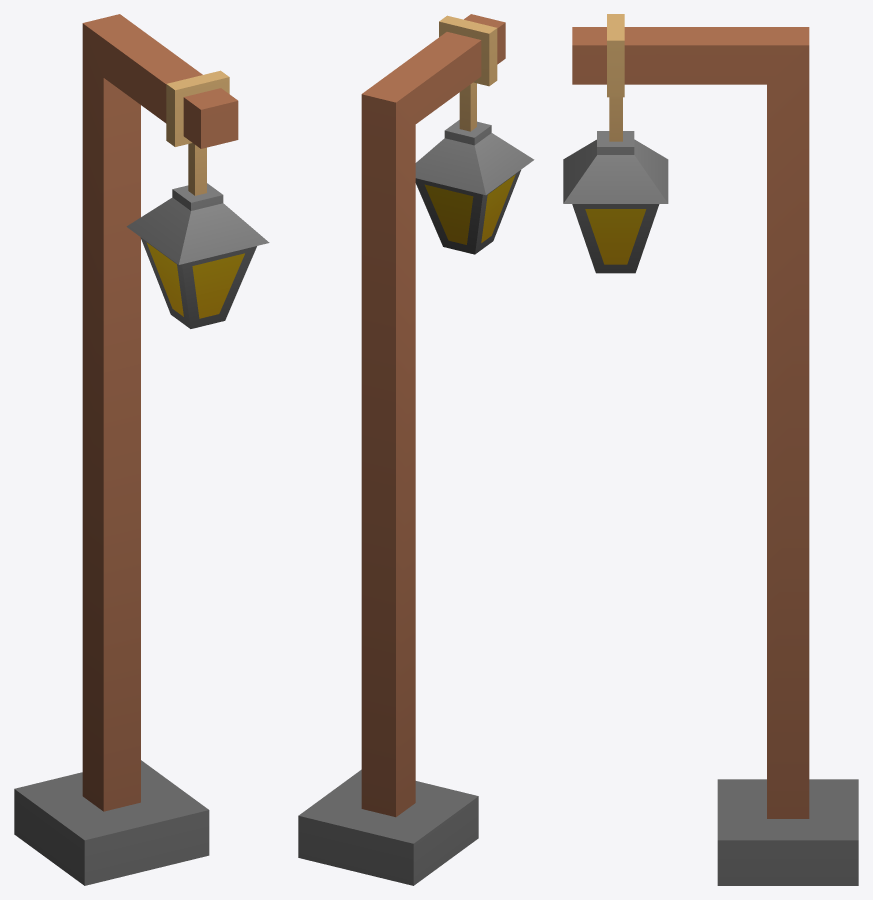
Rendered from lamppost.glb.
The picture shows the model from 3 angles, left to right: view 1: azimuth 30°, elevation 25°; view 2: azimuth 150°, elevation 25°; view 3: azimuth 270°, elevation 25°; orthographic projection. The views are drawn at different scales.
Parts seen in each view (by area): view 1: lamppost; view 2: lamppost; view 3: lamppost.
Boxes of the visible parts, left/top/right/bottom form: lamppost: left=14, top=14, right=269, bottom=885; lamppost: left=298, top=14, right=534, bottom=885; lamppost: left=563, top=14, right=858, bottom=885.
Bounding box in the file's own units: 0.4119 × 2.61 × 0.8454.
1 material, 1 textured.
